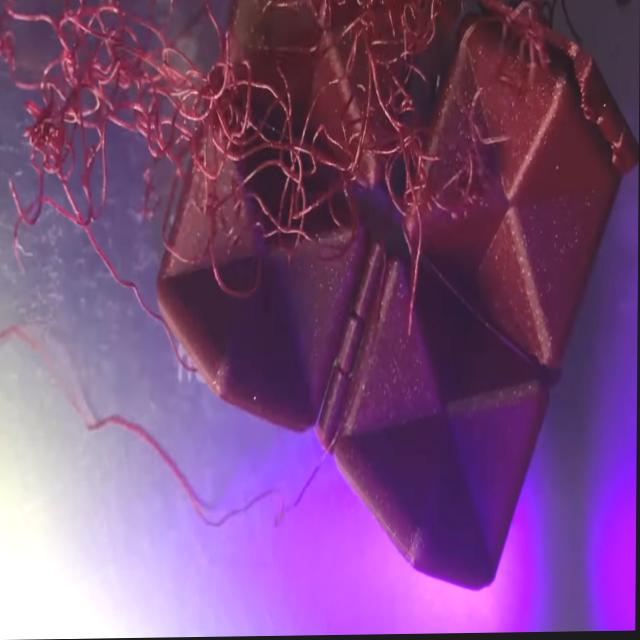spaghetti: (0, 0, 546, 342)
